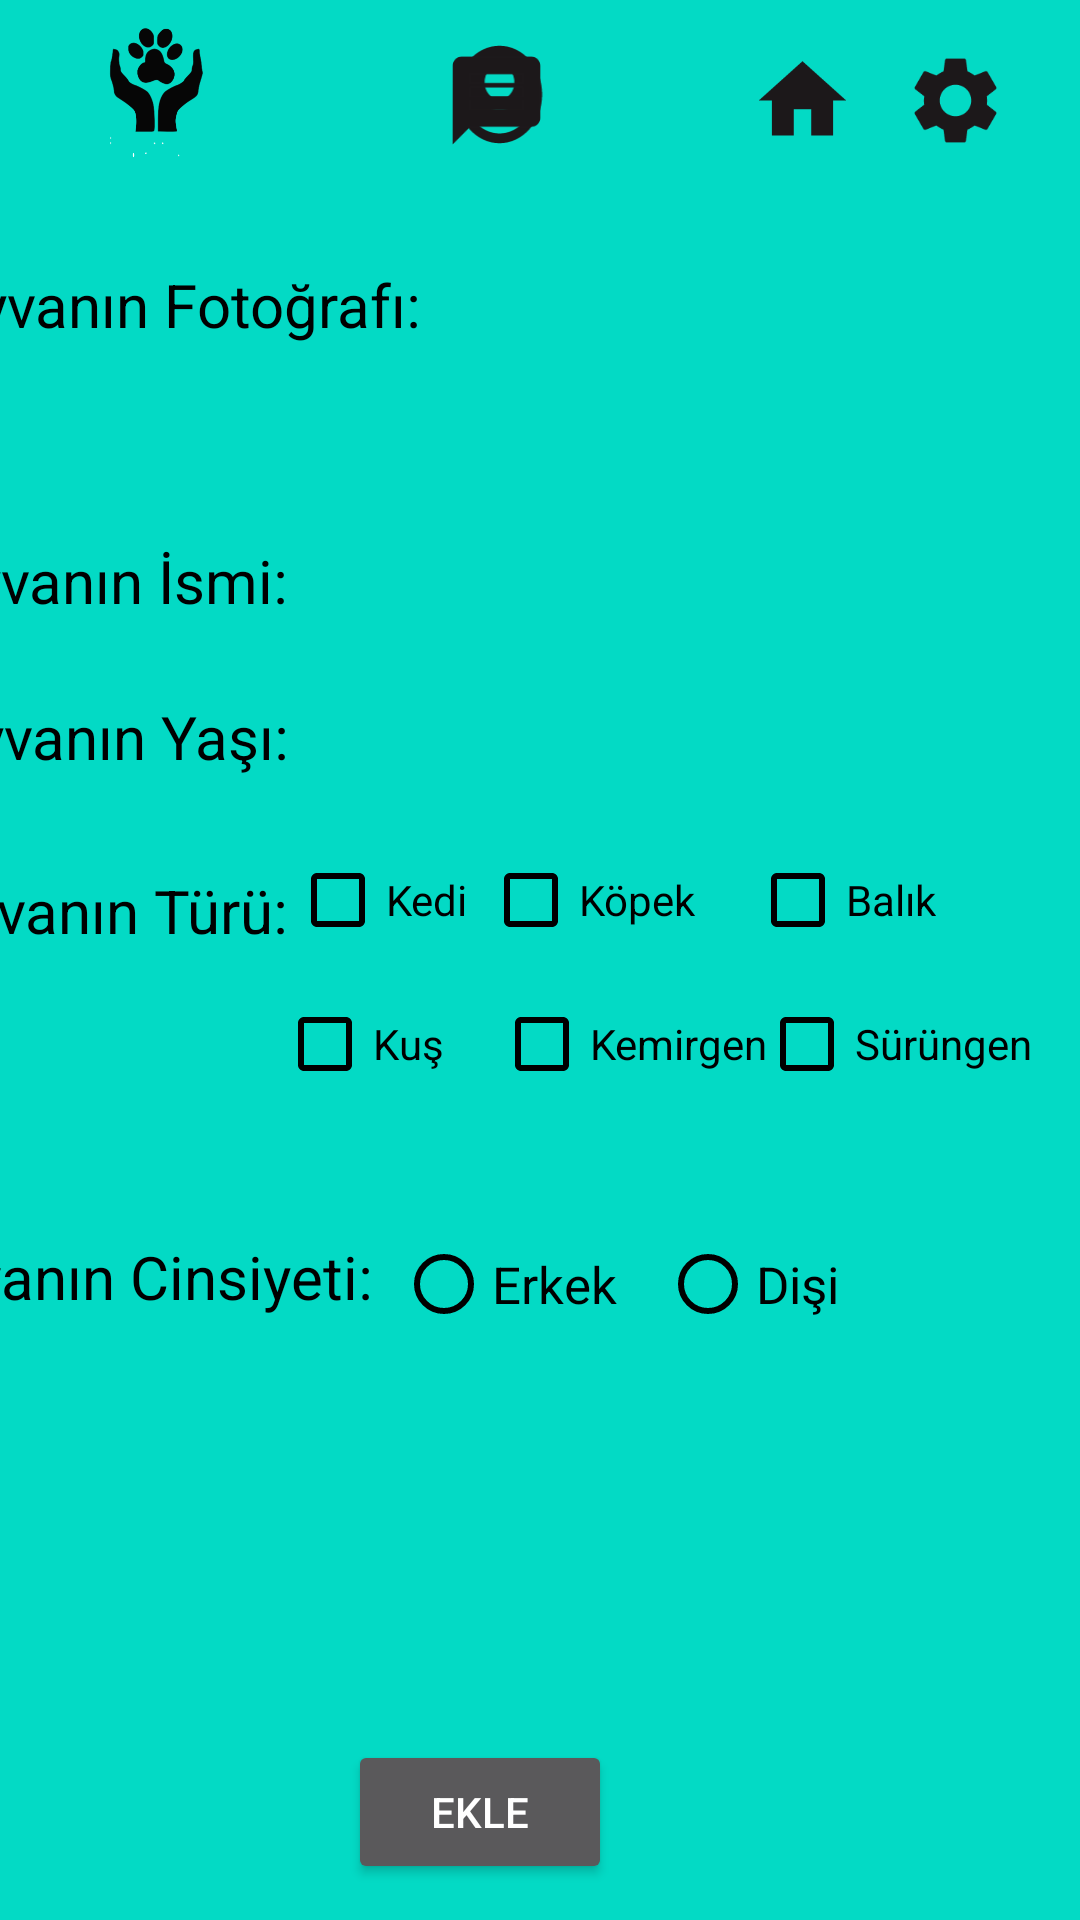

Named icons in this screenshot (1080 x 1920) and their bounding boxes, (x1, y1, x2, y2):
home: (759, 61, 846, 136)
settings: (914, 58, 997, 143)
